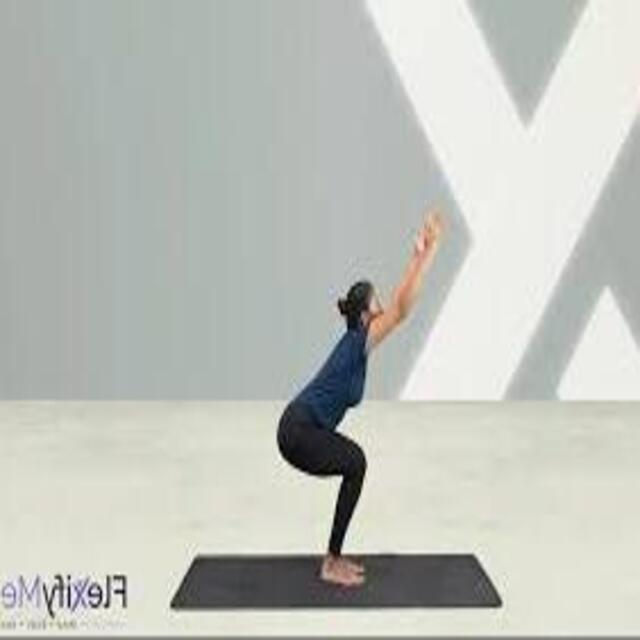Squat_Pose: (274, 212, 443, 581)
